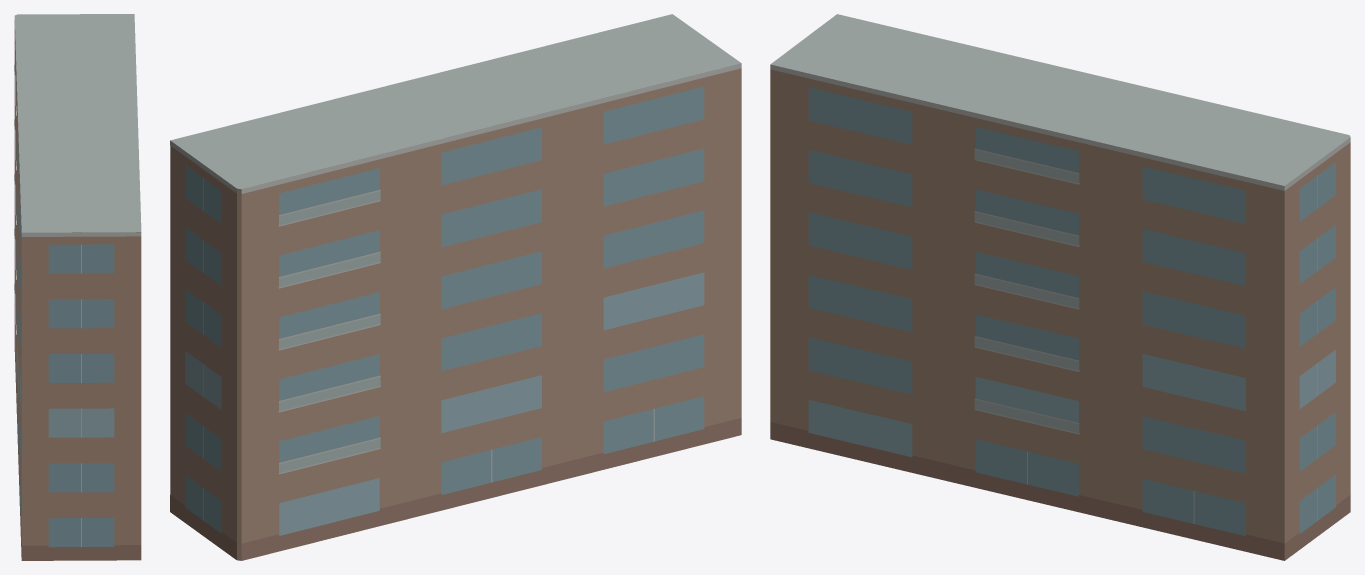
Rendered from survey-upis-32571683.glb.
3 renders of one model, left to right at view 1: azimuth 30°, elevation 25°; view 2: azimuth 150°, elevation 25°; view 3: azimuth 270°, elevation 25°, orthographic. The views are drawn at different scales.
Visible parts, largest first — view 1: survey-upis-32571683.tmp; view 2: survey-upis-32571683.tmp; view 3: survey-upis-32571683.tmp.
Boxes of the visible parts, box(x1,y1,x2,y2) form: survey-upis-32571683.tmp: box(14, 14, 141, 560); survey-upis-32571683.tmp: box(170, 14, 741, 560); survey-upis-32571683.tmp: box(770, 14, 1350, 560).
Bounding box in the file's own units: 18.32 × 18.6 × 26.11.
